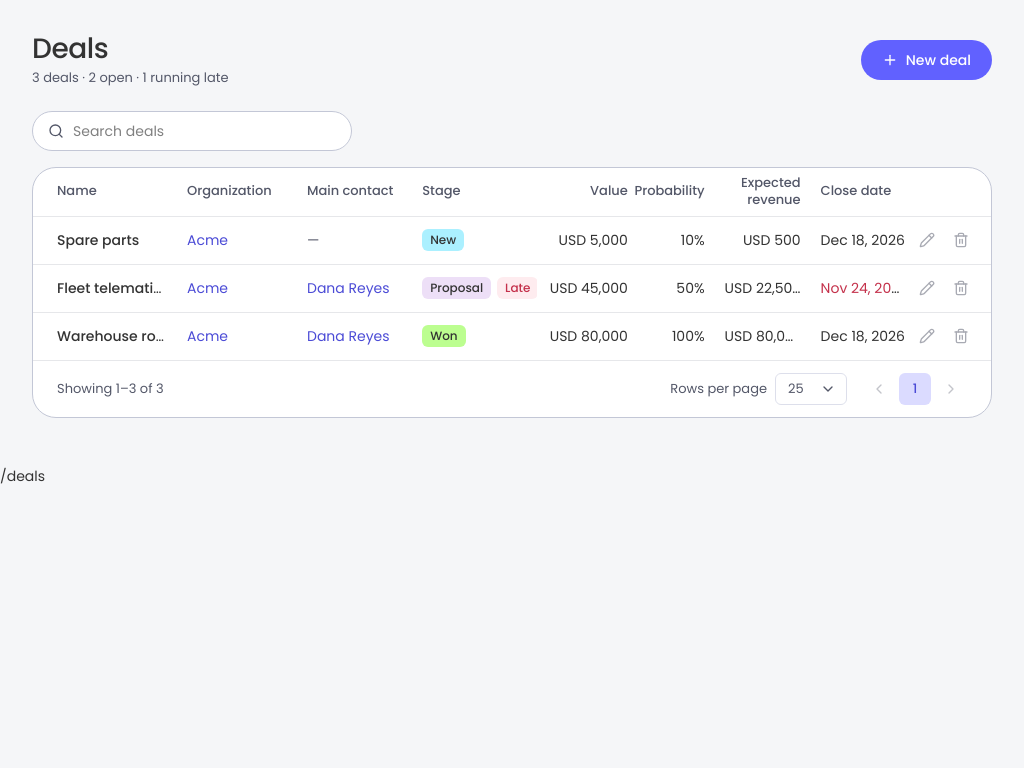
Scenario: the deals table › opens a deal when its row is clicked, and the new deal form
What coordinates should you click on to do the following:
click the button "New deal"
I would click on:
 (926, 60)
Its box is [861,40,992,80].
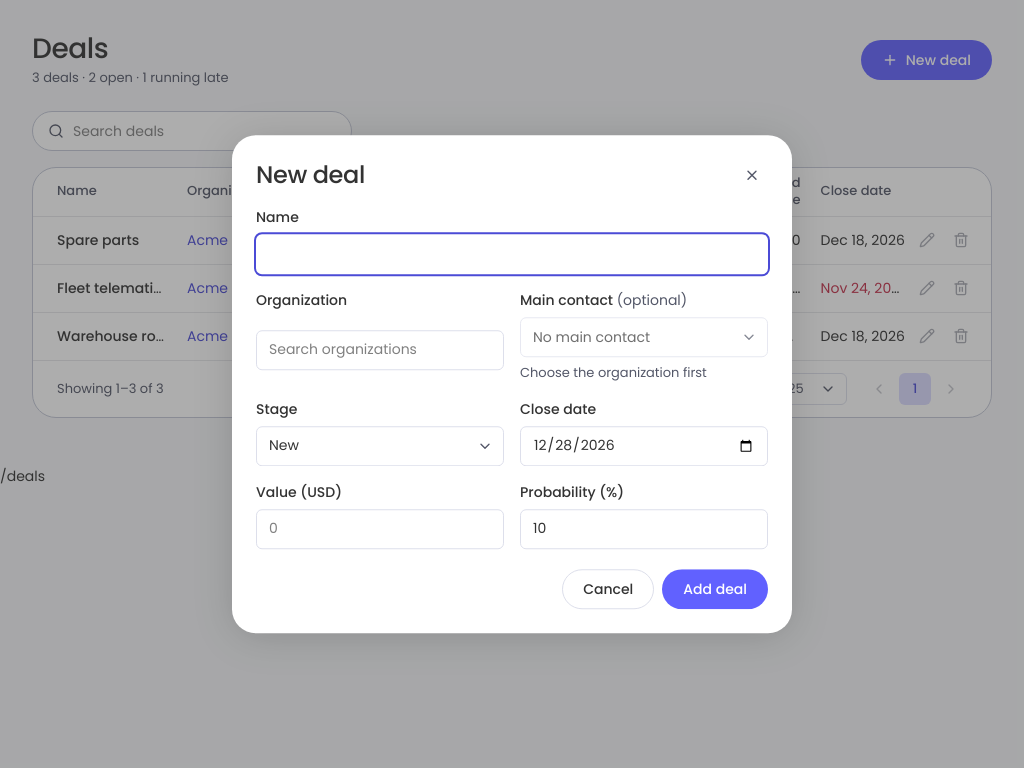
Expected: the dialog "New deal" is shown, [232,135,792,633]
